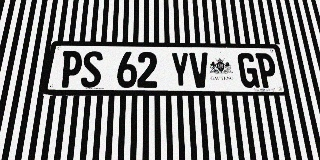2: (137, 52, 157, 88)
6: (117, 51, 137, 88)
G: (237, 53, 260, 88)
P: (59, 51, 83, 88), (255, 53, 279, 88)
S: (80, 51, 103, 88)
V: (189, 52, 210, 88)
Y: (170, 52, 191, 88)
